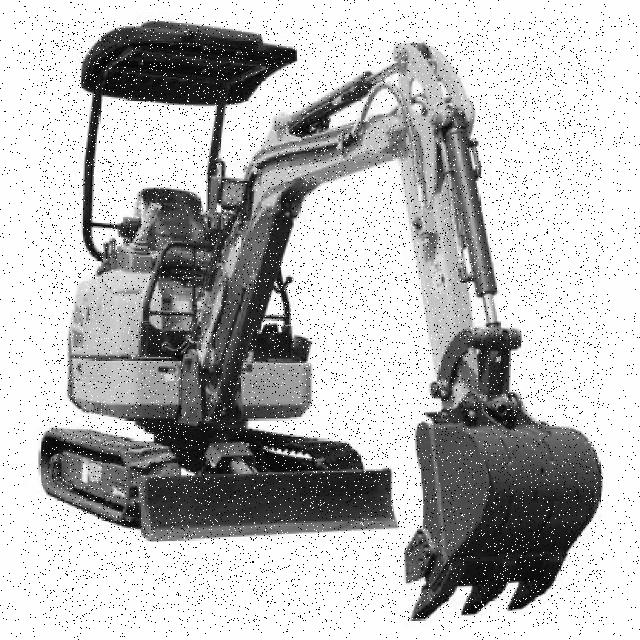Construction Equipment: (40, 21, 604, 623)
